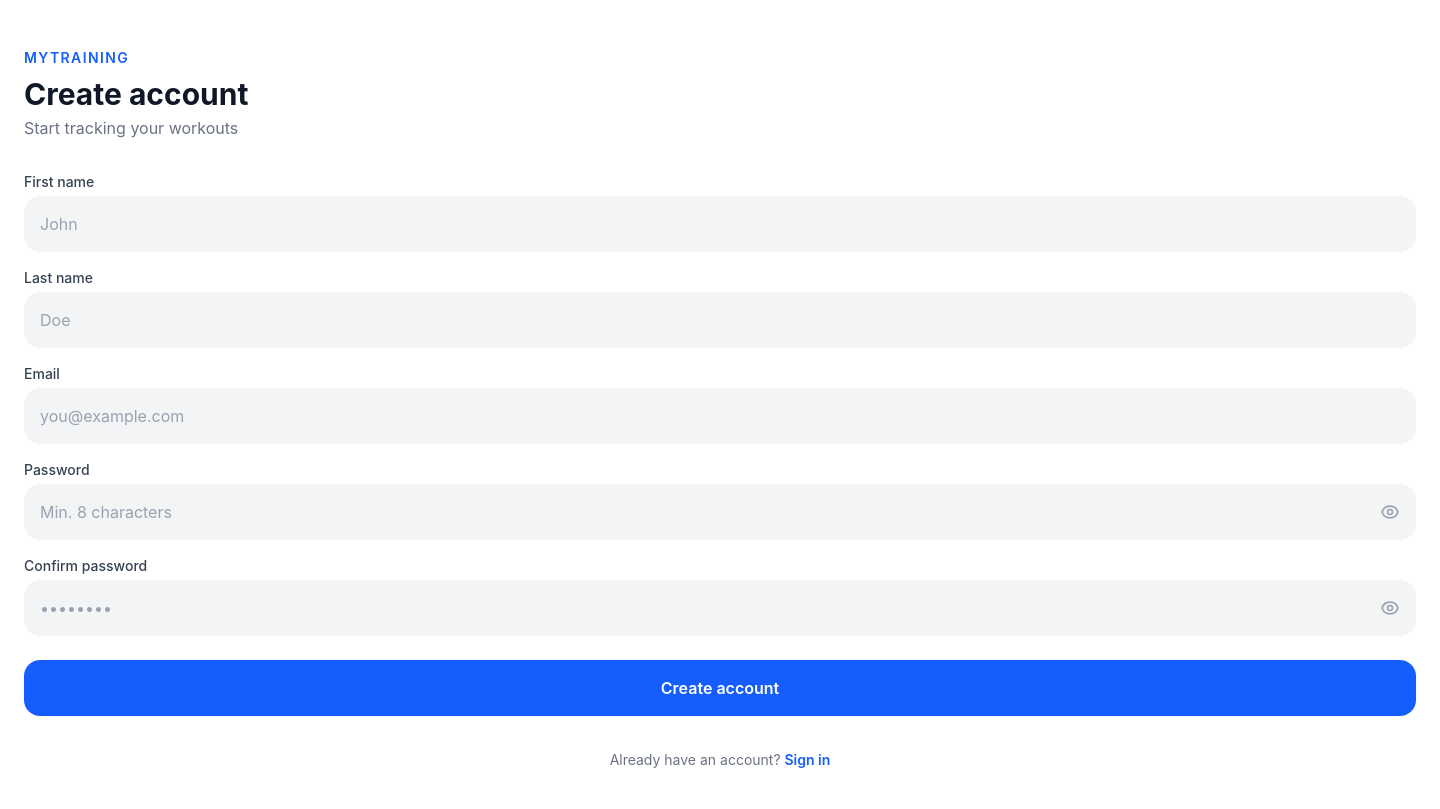
Test case: SignUpPage › shows a client-side error when the password does not meet requirements
Type "Jane" into the field with placeholder "John" at point(720, 224), box [24,196,1416,252]
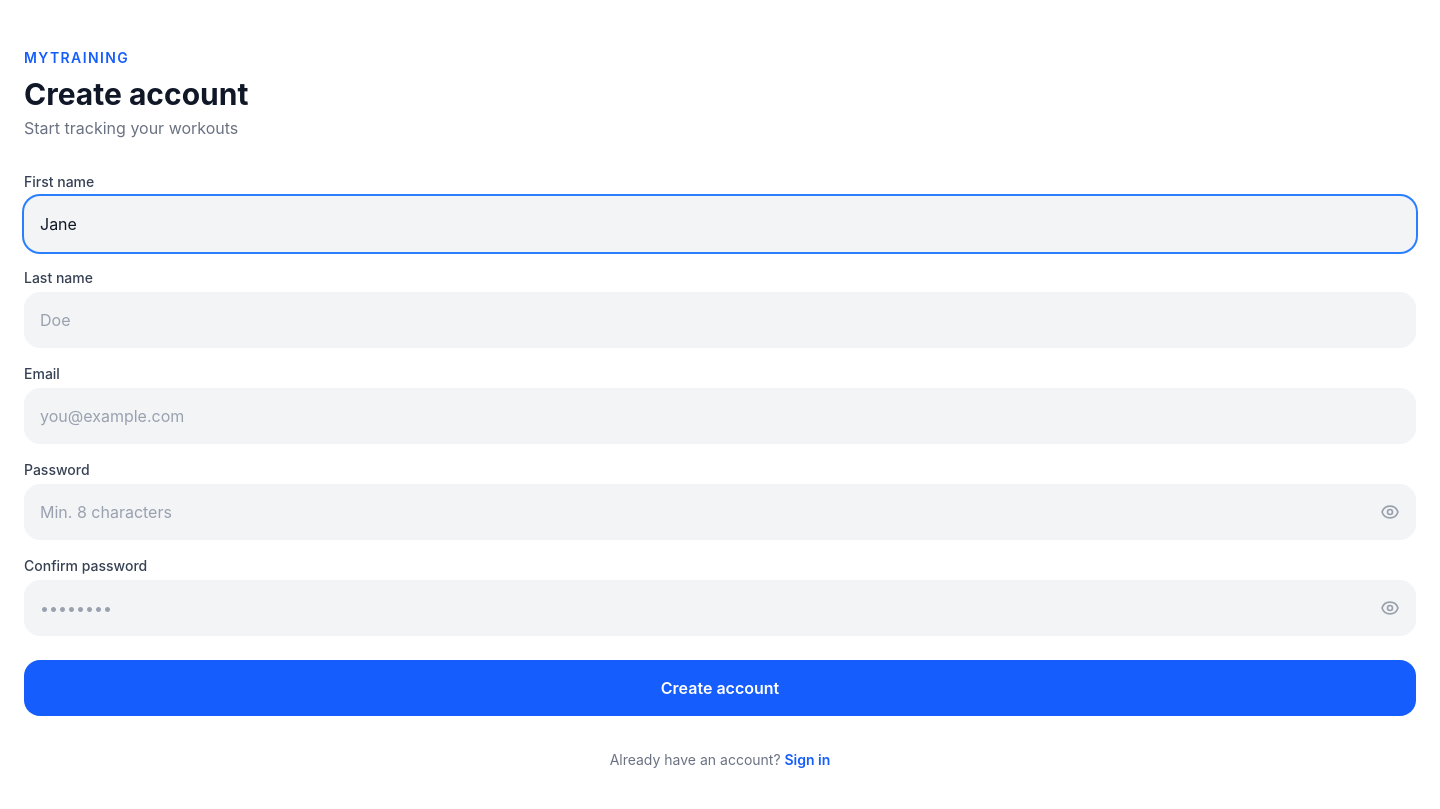
Type "Smith" into the field with placeholder "Doe" at point(720, 320), box [24,292,1416,348]
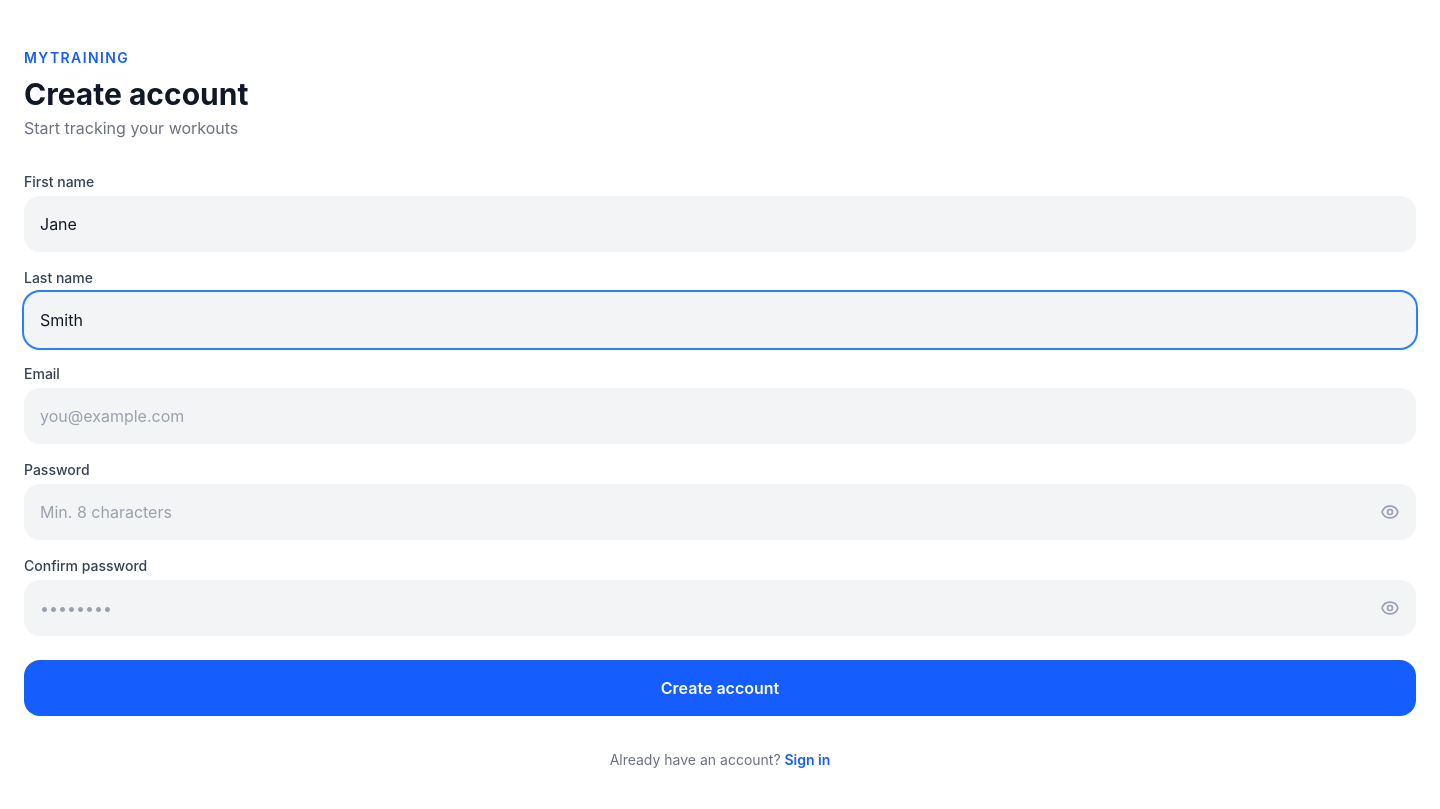
Type "jane@test.com" into the field with placeholder "you@example.com" at point(720, 416), box [24,388,1416,444]
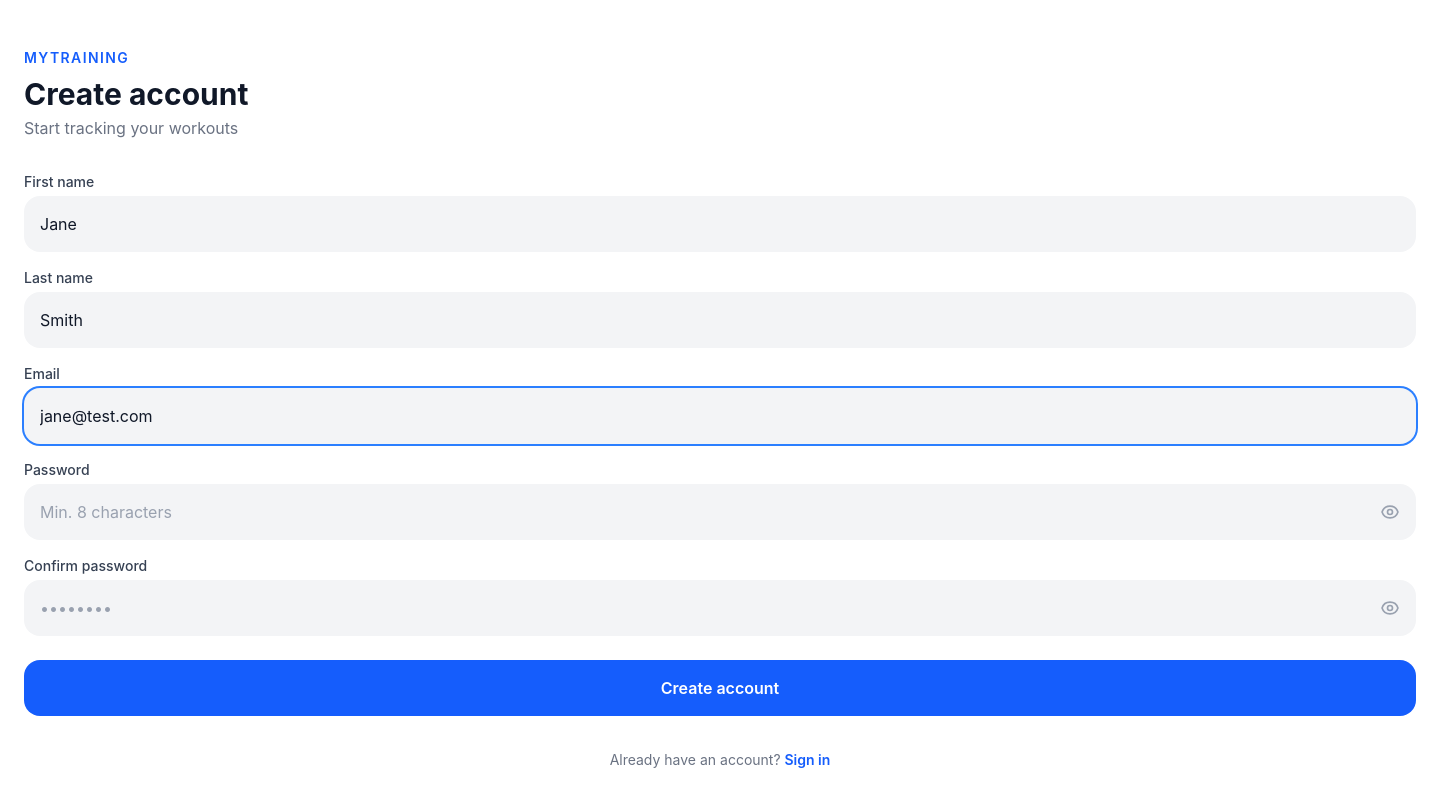
Type "weak" into the password field with placeholder "Min. 8 characters" at point(720, 512), box [24,484,1416,540]
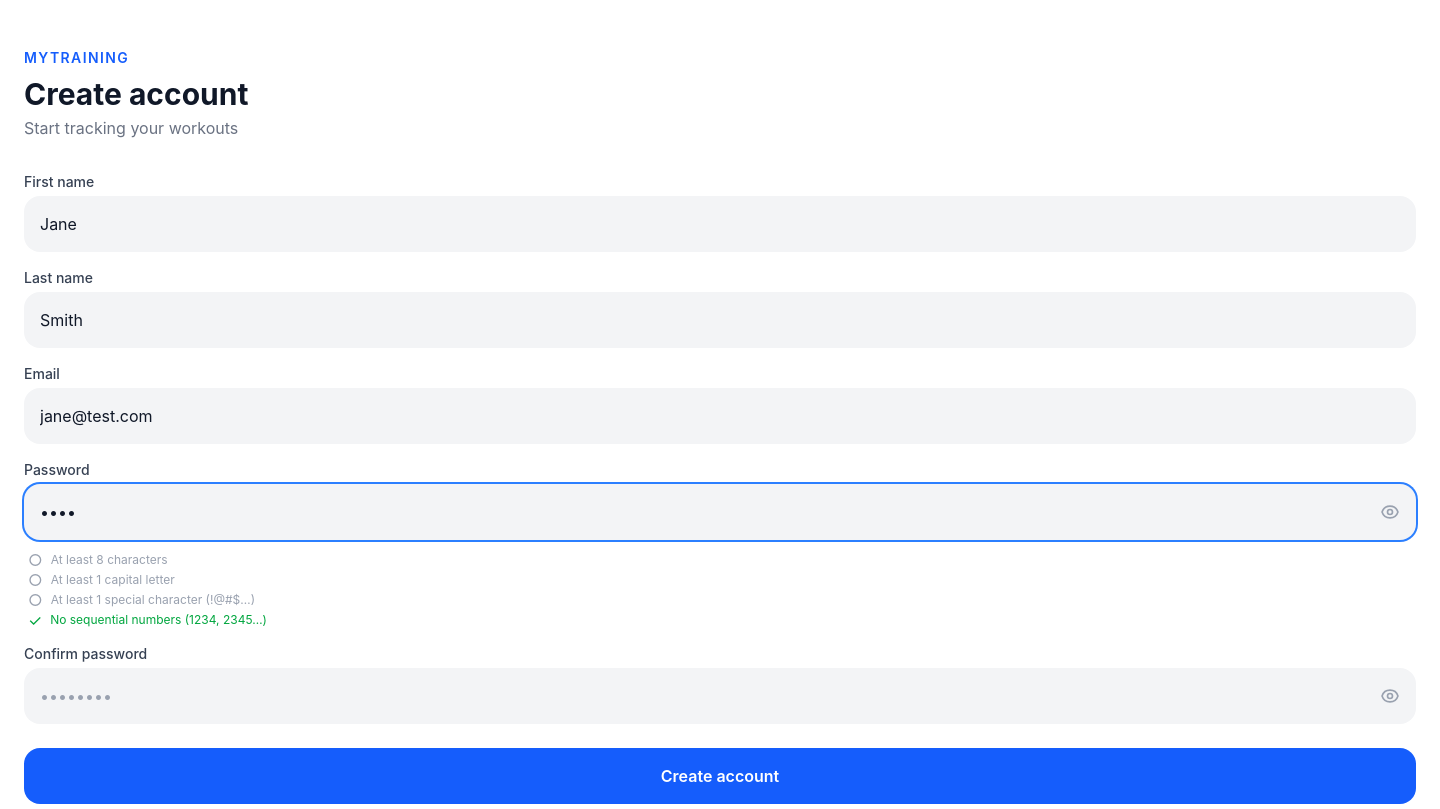
Type "weak" into the password field with placeholder "••••••••" at point(720, 696), box [24,668,1416,724]
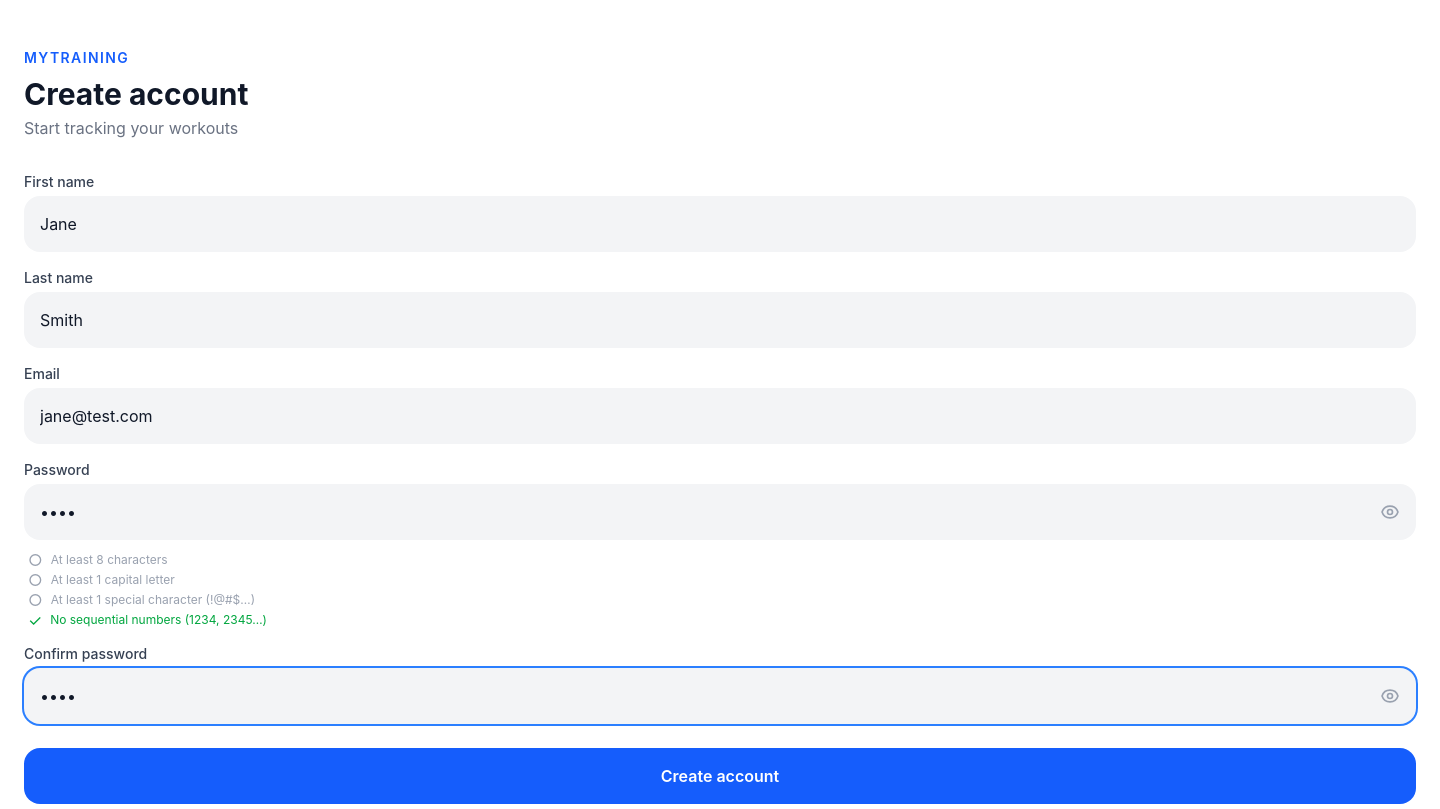
Click the button "Create account" at point(720, 776), box [24,748,1416,804]
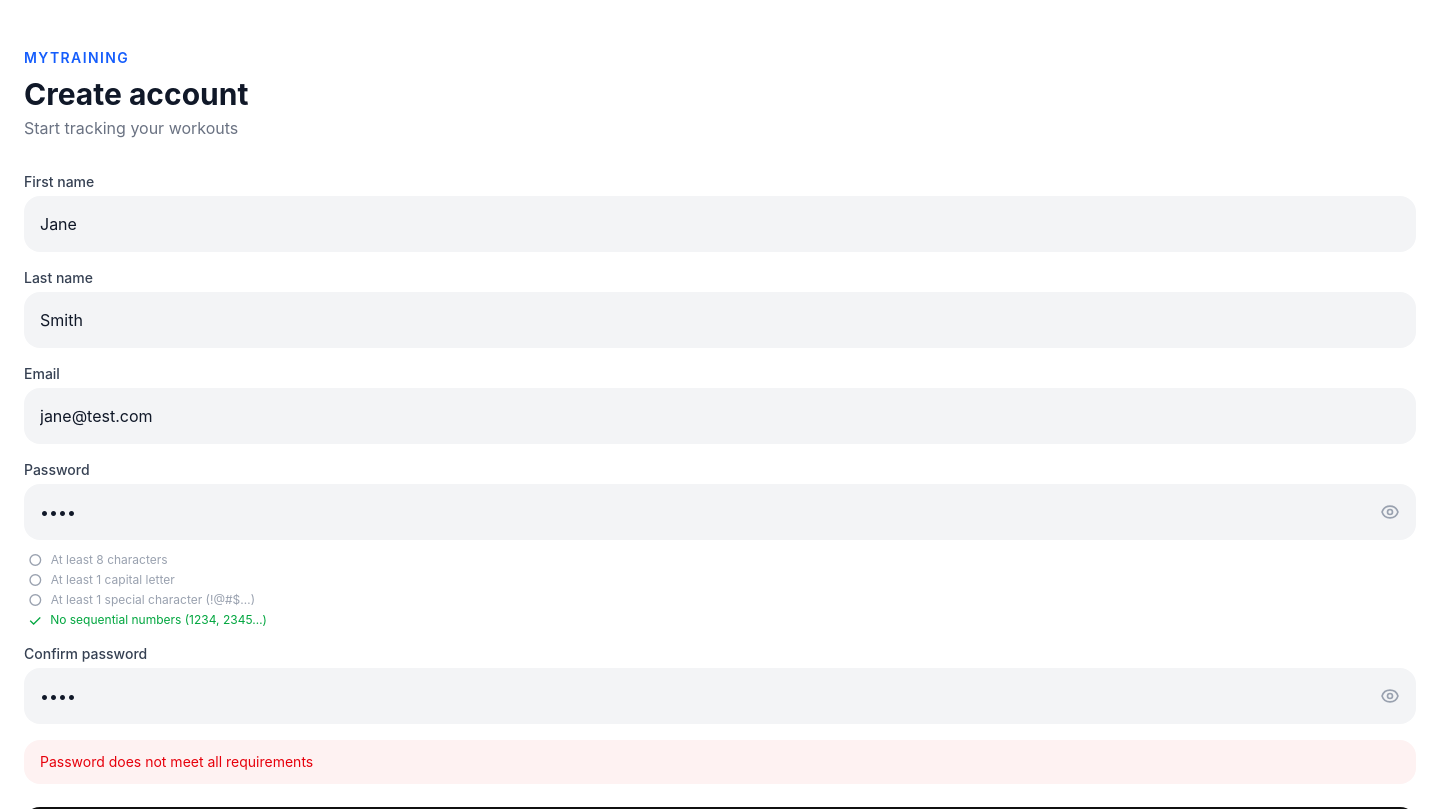
Check: the text "Password does not meet all requirements" is shown, box [24,740,1416,784]
